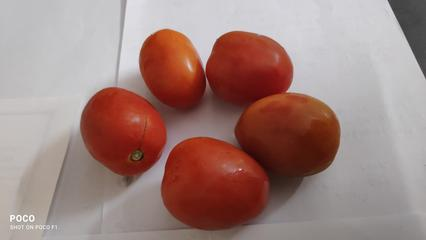tomato: (155, 139, 272, 231), (234, 98, 345, 178), (199, 29, 307, 102), (81, 85, 160, 169), (128, 24, 206, 100)
